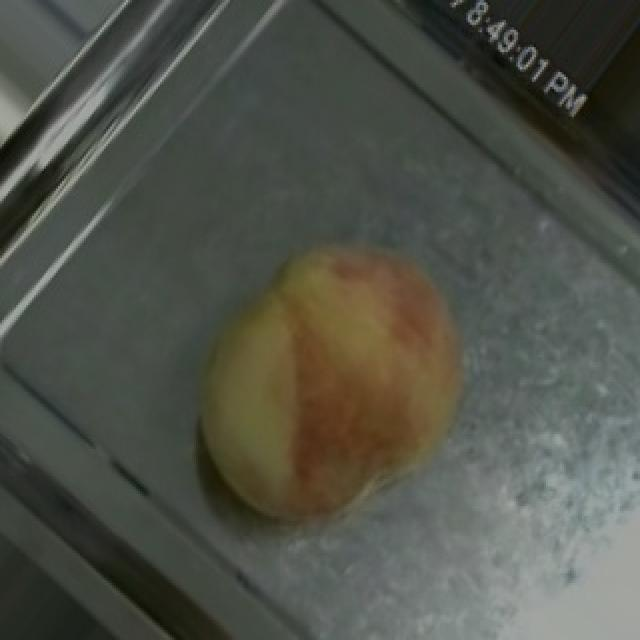Fruit: (144, 208, 466, 566)
